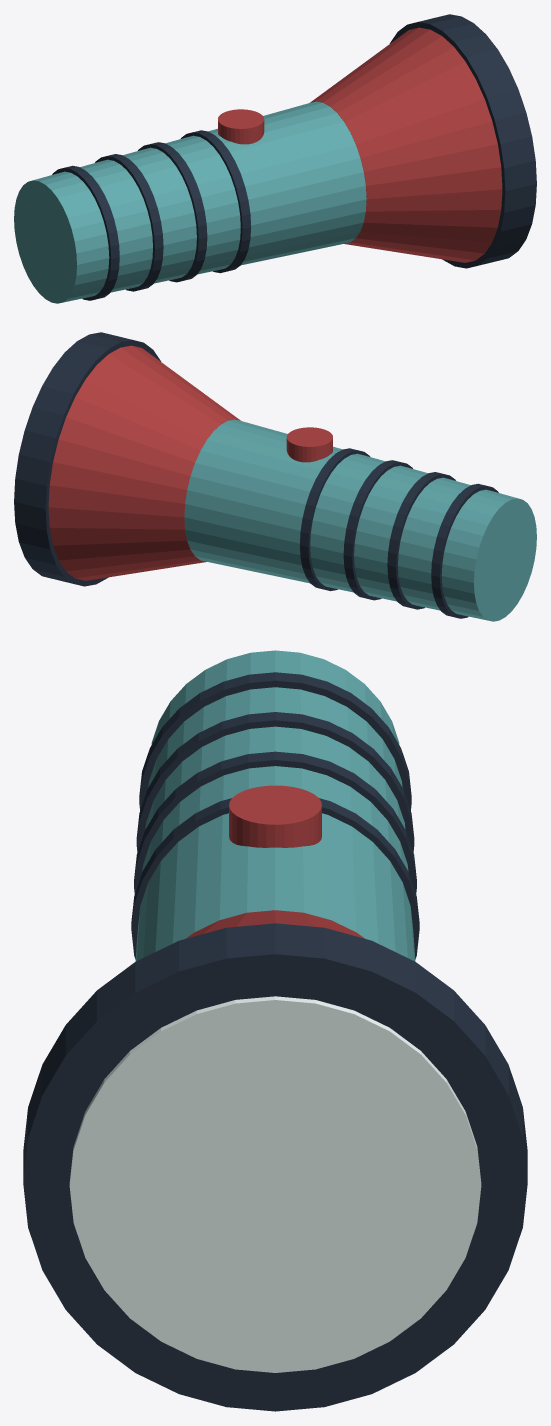
Rendered from flashlight.glb.
3 renders of one model, top to bottom at view 1: azimuth 30°, elevation 25°; view 2: azimuth 150°, elevation 25°; view 3: azimuth 270°, elevation 25°, orthographic. The views are drawn at different scales.
Visible parts, largest first — view 1: grip, head, bezel, grip ring 3, grip ring 2, grip ring 1, grip ring 0, switch; view 2: grip, head, bezel, grip ring 3, grip ring 2, grip ring 1, grip ring 0, switch; view 3: lens, bezel, grip, switch, grip ring 0, grip ring 1, grip ring 2, grip ring 3, head.
Part boxes in pixels (x1,y1,x2,y2): grip: (14,101,366,303); head: (310,27,502,262); bezel: (389,14,536,268); grip ring 3: (180,130,250,273); grip ring 2: (138,142,207,282); grip ring 1: (95,154,163,291); grip ring 0: (52,165,119,300); switch: (218,109,264,144); grip: (184,419,536,621); head: (48,345,240,580); bezel: (14,332,161,586); grip ring 3: (300,448,370,591); grip ring 2: (343,460,412,600); grip ring 1: (387,472,455,609); grip ring 0: (431,483,498,618); switch: (286,427,332,462); lens: (69,996,481,1372); bezel: (23,923,527,1411); grip: (135,650,415,961); switch: (229,785,321,847); grip ring 0: (139,672,411,810); grip ring 1: (136,712,414,852); grip ring 2: (134,751,416,894); grip ring 3: (131,798,419,959); head: (186,910,364,938).
Size of the model in its own units: 1.5 by 0.76 by 0.76.
